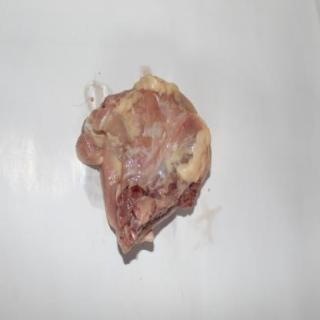Ayam: (77, 76, 213, 254)
